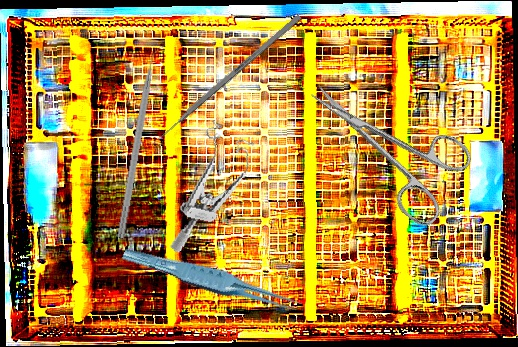Chopper: (116, 41, 170, 241)
Iris Scissors: (288, 51, 483, 232)
Pusher: (147, 13, 302, 150)
Speculum: (169, 116, 259, 264)
Tissue Forceps: (121, 234, 304, 327)
